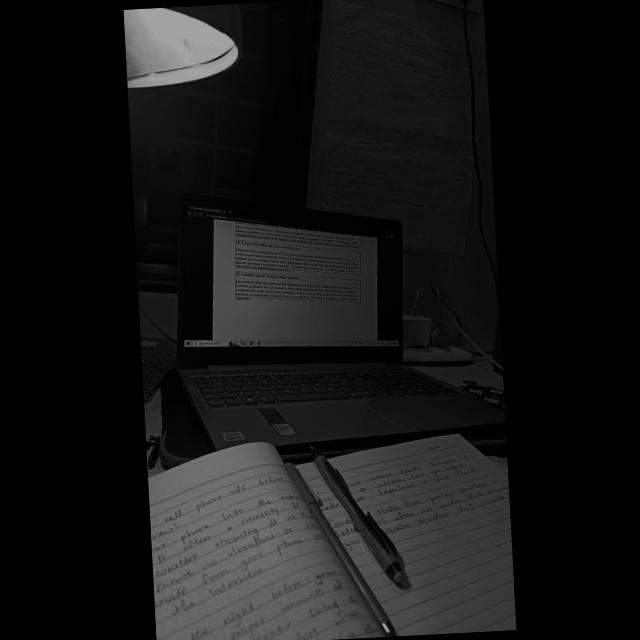laptop: (159, 147, 506, 456)
